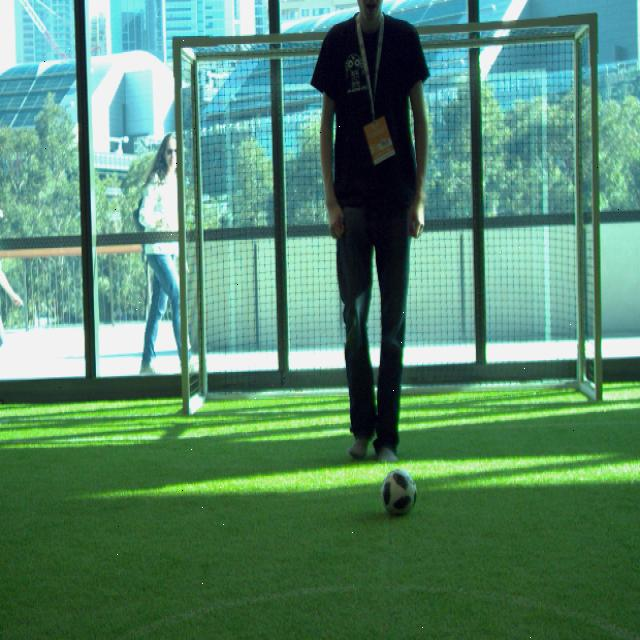ball: (382, 468, 417, 515)
goalpost: (174, 37, 191, 415), (588, 12, 604, 400)
